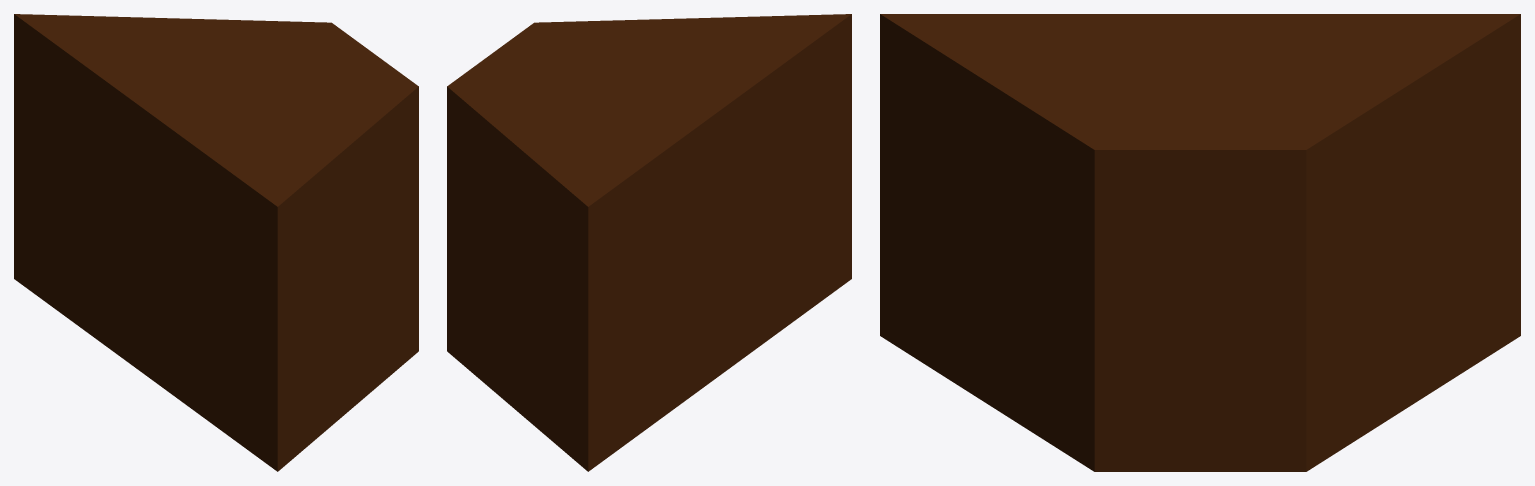
The model's file is quadri_left_cible.glb.
The picture shows the model from 3 angles, left to right: view 1: azimuth 30°, elevation 25°; view 2: azimuth 150°, elevation 25°; view 3: azimuth 270°, elevation 25°; orthographic projection. The views are drawn at different scales.
Visible parts, largest first — view 1: Cube.010; view 2: Cube.010; view 3: Cube.010.
Part boxes in pixels (x1=…): Cube.010: x1=14, y1=14, x2=418, y2=471; Cube.010: x1=447, y1=14, x2=851, y2=471; Cube.010: x1=880, y1=14, x2=1520, y2=471.
Bounding box in the file's own units: 0.0812 × 0.0896 × 0.1616.
